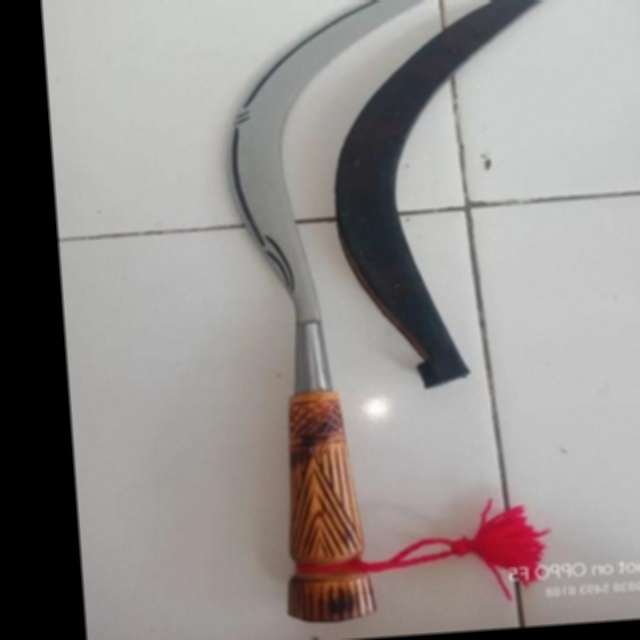Sharp-Object: (211, 0, 548, 635)
